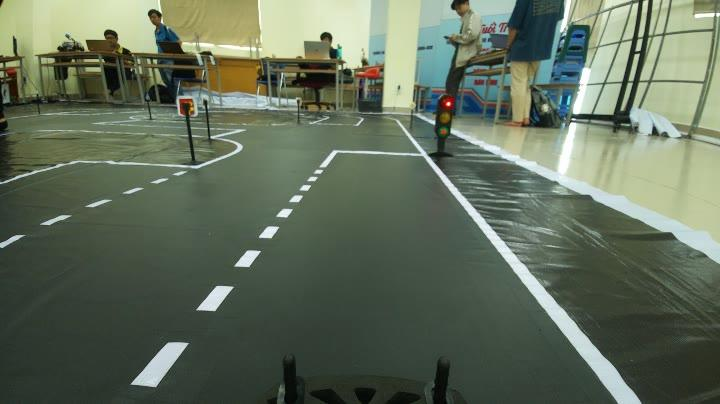trafficlight: (420, 92, 461, 167)
